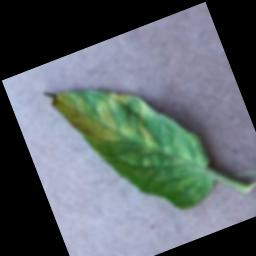Leaf_Mold: (46, 58, 163, 175)
